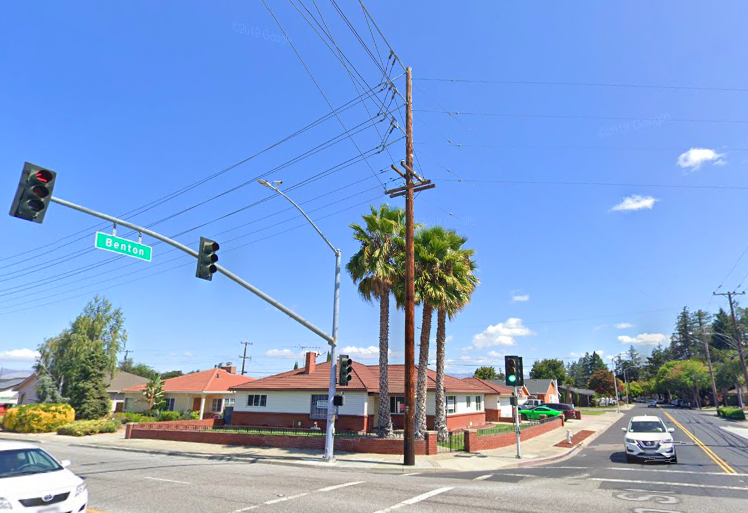tree: (344, 203, 402, 438), (416, 225, 480, 436)
utility_pole: (366, 39, 445, 206)
